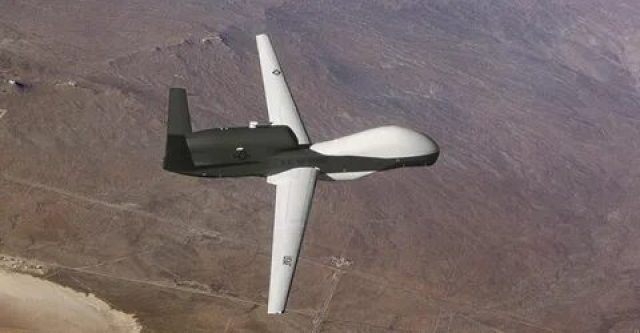military drone: (161, 33, 439, 315)
